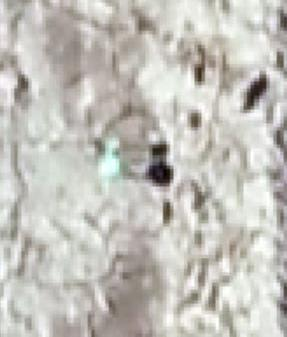cotton: (103, 141, 122, 176)
